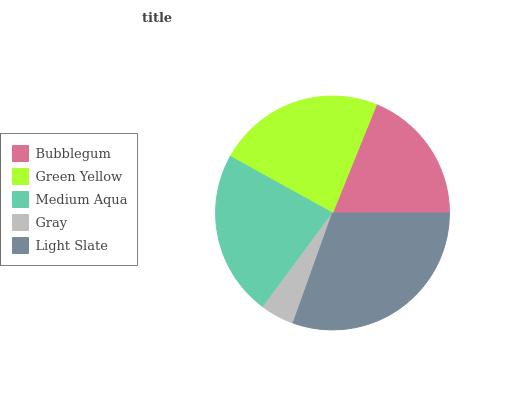legend: (0, 136, 139, 265)
sector: (293, 213, 449, 330), (213, 156, 334, 306), (232, 94, 378, 213), (329, 104, 451, 214), (264, 212, 331, 324)
